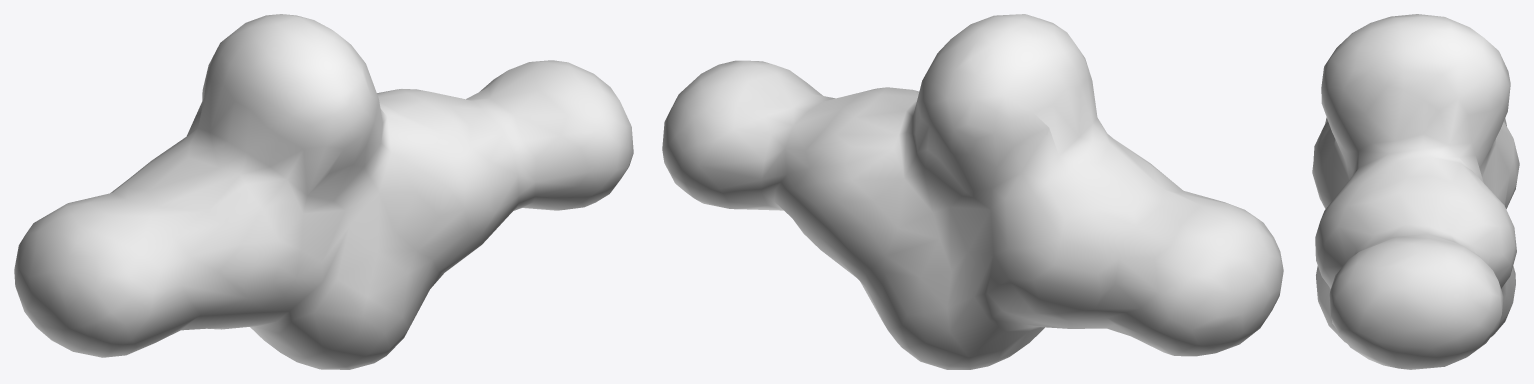
The model's file is cloud_6.fbx.
The picture shows the model from 3 angles, left to right: view 1: azimuth 30°, elevation 25°; view 2: azimuth 150°, elevation 25°; view 3: azimuth 270°, elevation 25°; orthographic projection. The views are drawn at different scales.
Visible parts, largest first — view 1: cloud_6; view 2: cloud_6; view 3: cloud_6.
Part boxes in pixels (bbox=[...]): cloud_6: bbox=[14, 14, 633, 369]; cloud_6: bbox=[662, 14, 1283, 369]; cloud_6: bbox=[1312, 14, 1519, 369].
Size of the model in its own units: 354 by 197 by 116.
